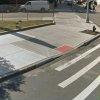Crosswalk: (56, 44, 100, 100)
